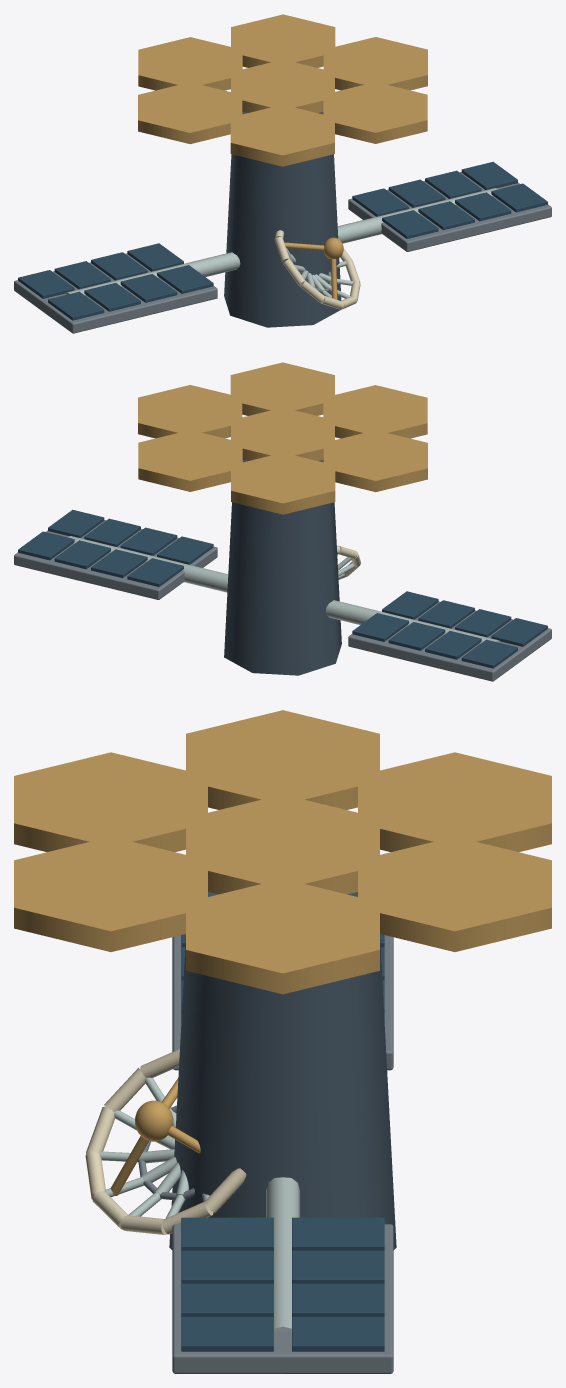
The model's file is heliograph.glb.
The picture shows the model from 3 angles, top to bottom: view 1: azimuth 30°, elevation 25°; view 2: azimuth 150°, elevation 25°; view 3: azimuth 270°, elevation 25°; orthographic projection. The views are drawn at different scales.
Parts seen in each view (by area): view 1: Hexagonal sun reflector (×7), Instrument bus, Collector cell (×16), Panel backing (×2), Radiator boom (×2); view 2: Hexagonal sun reflector (×7), Instrument bus, Collector cell (×16), Panel backing (×2), Radiator boom (×2); view 3: Hexagonal sun reflector (×7), Instrument bus, Collector cell (×8), Panel backing (×2), Radiator boom, Receiver, Dish rim.
Boxes of the visible parts, <box> form: Hexagonal sun reflector (×7): <box>138,14,427,166</box>; Instrument bus: <box>224,111,341,327</box>; Collector cell (×16): <box>18,161,547,320</box>; Panel backing (×2): <box>14,172,551,333</box>; Radiator boom (×2): <box>65,188,497,295</box>; Hexagonal sun reflector (×7): <box>138,362,427,514</box>; Instrument bus: <box>224,459,341,675</box>; Collector cell (×16): <box>18,509,547,668</box>; Panel backing (×2): <box>14,520,551,681</box>; Radiator boom (×2): <box>68,536,500,643</box>; Hexagonal sun reflector (×7): <box>14,710,551,994</box>; Instrument bus: <box>169,892,396,1249</box>; Collector cell (×8): <box>181,1217,384,1351</box>; Panel backing (×2): <box>172,935,393,1373</box>; Radiator boom: <box>266,1177,299,1331</box>; Receiver: <box>135,1100,173,1141</box>; Dish rim: <box>204,1168,246,1212</box>.
Bounding box in the file's own units: 3.36 × 1.46 × 1.75.
